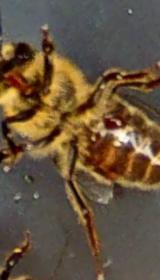varroa_mite: (96, 103, 132, 142)
